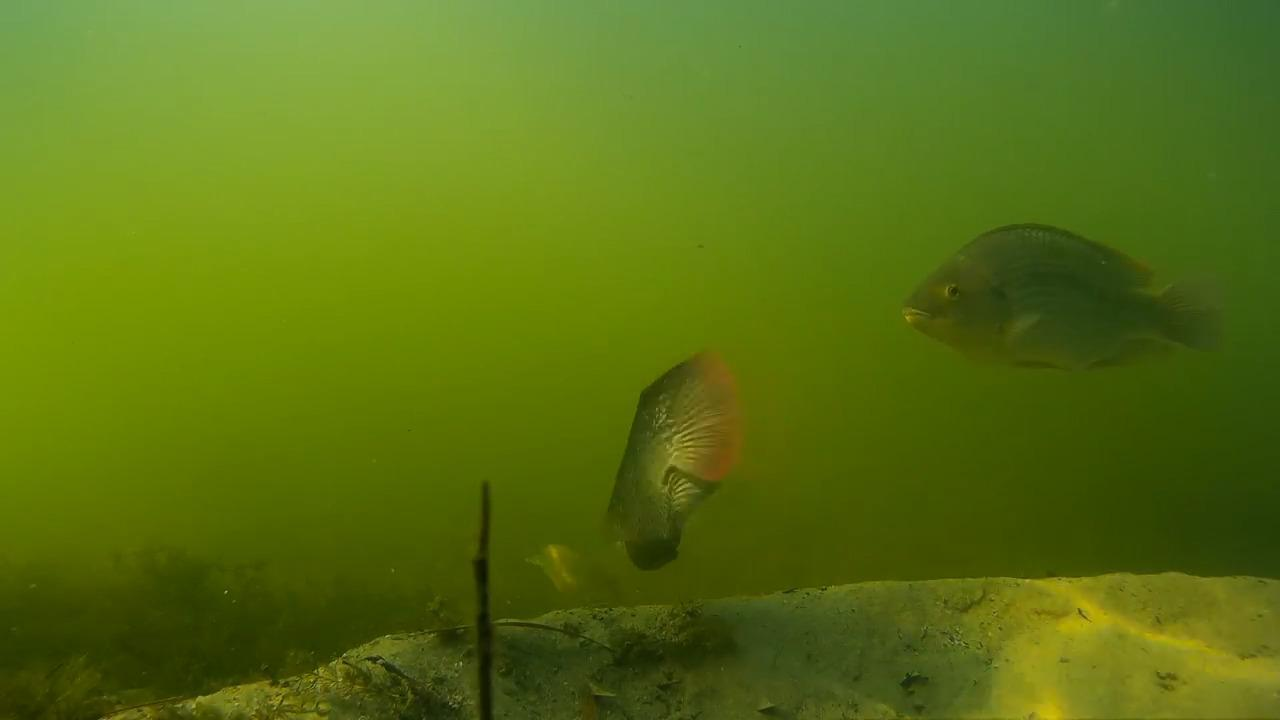Tilapia: (885, 210, 1234, 388), (592, 350, 749, 570)
